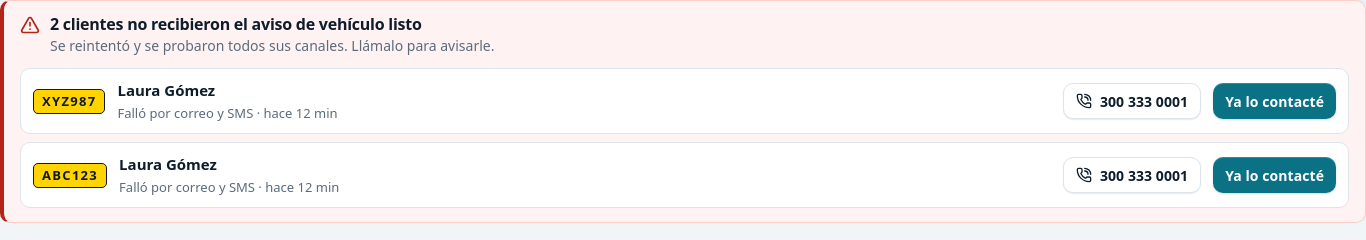
CA3: alerta en el dashboard del administrador › "Ya lo contacté" la marca como atendida y desaparece
Expected: the heading "2 clientes no recibieron el aviso de vehículo listo" is shown, [50,13,422,35]
Click the button with aria-label "Ya contacté al cliente de XYZ987" at [1275, 101], box [1213,83,1336,119]
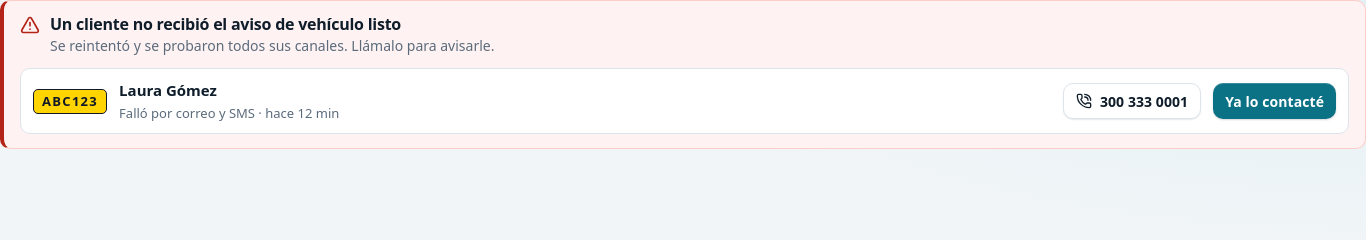
Expected: the text "ABC123" is shown, [33,89,107,114]
Result: the text "XYZ987" is gone
